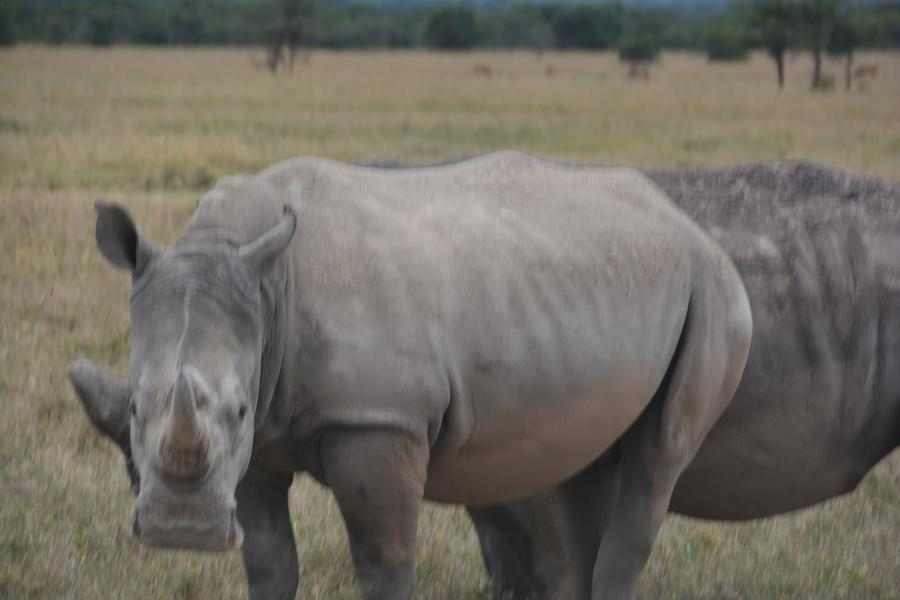rhino: (122, 173, 724, 528)
